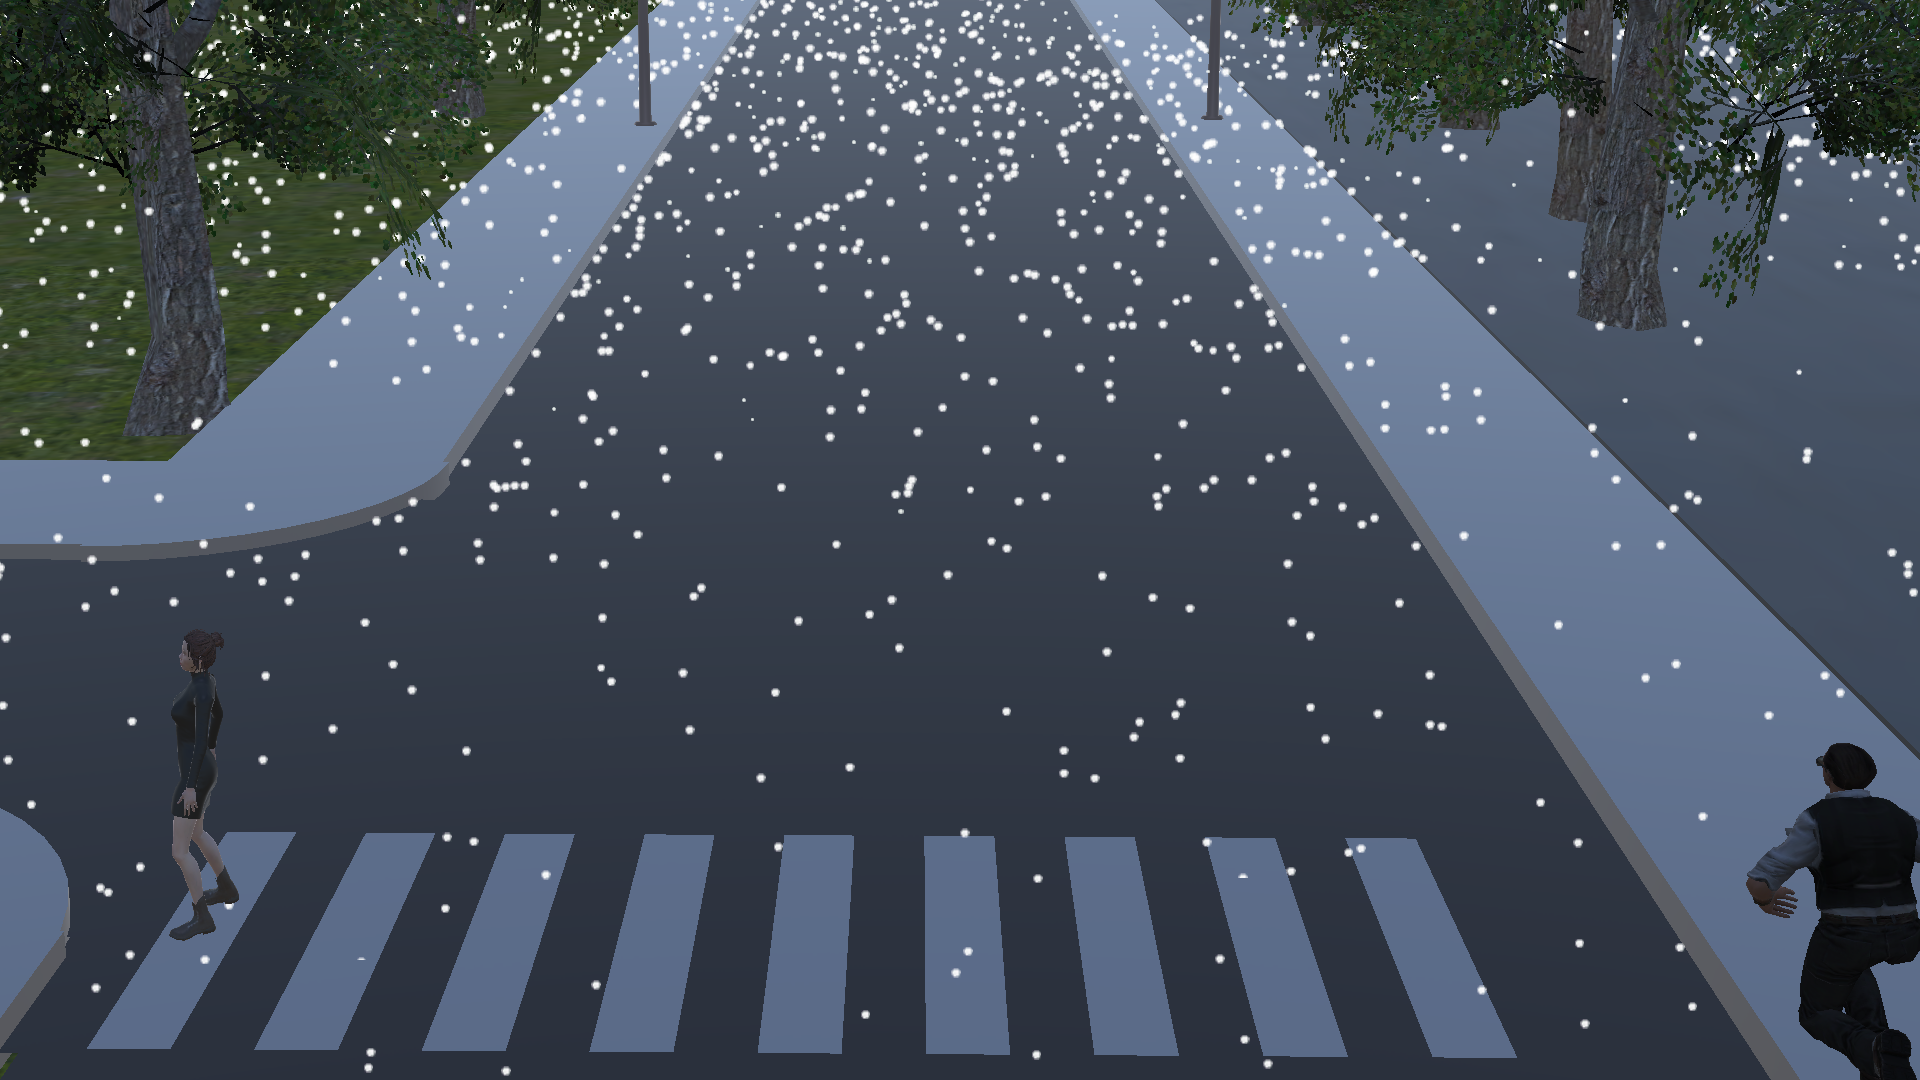pedestrian: (1729, 722, 1920, 1080), (131, 615, 264, 950)
